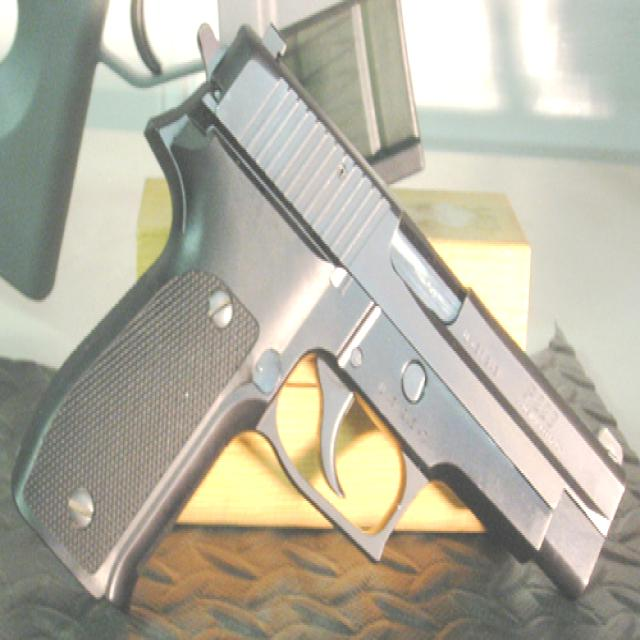handgun: (9, 24, 626, 602)
